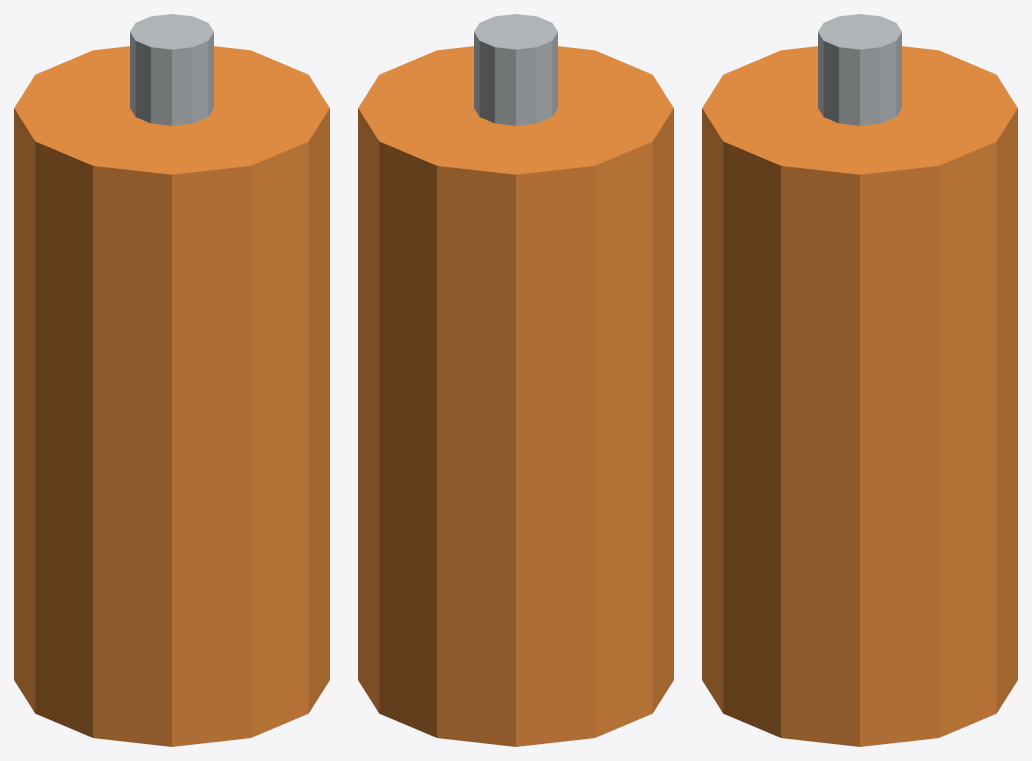
Rendered from sm_product_gas_cylinder.glb.
3 renders of one model, left to right at view 1: azimuth 30°, elevation 25°; view 2: azimuth 150°, elevation 25°; view 3: azimuth 270°, elevation 25°, orthographic.
Visible parts, largest first — view 1: gas_cylinder_0, gas_cylinder_1; view 2: gas_cylinder_0, gas_cylinder_1; view 3: gas_cylinder_0, gas_cylinder_1.
Boxes of the visible parts, box(x1,y1,x2,y2) form: gas_cylinder_0: box(14, 46, 329, 746); gas_cylinder_1: box(130, 14, 213, 125); gas_cylinder_0: box(358, 46, 673, 746); gas_cylinder_1: box(474, 14, 557, 125); gas_cylinder_0: box(702, 46, 1017, 746); gas_cylinder_1: box(818, 14, 901, 125).
Size of what is drawn, in the model's own units: 0.3 by 0.68 by 0.3.
